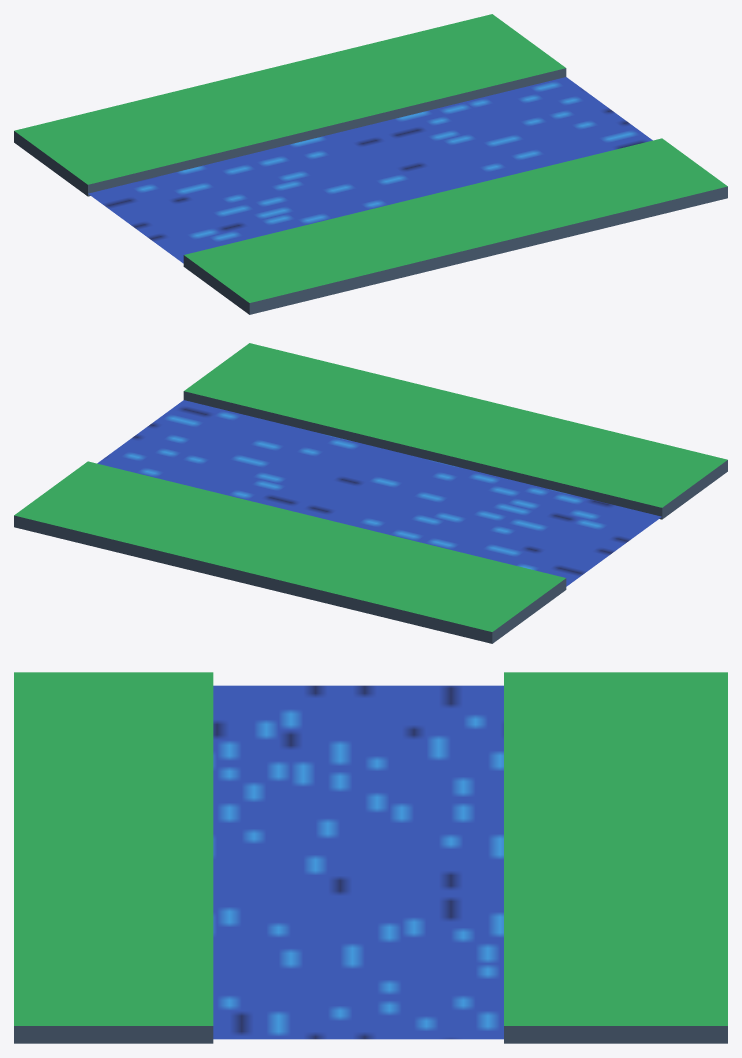
The model's file is pond.glb.
3 renders of one model, top to bottom at view 1: azimuth 30°, elevation 25°; view 2: azimuth 150°, elevation 25°; view 3: azimuth 270°, elevation 25°, orthographic. The views are drawn at different scales.
Visible parts, largest first — view 1: Water, FarBank, NearBank; view 2: FarBank, Water, NearBank; view 3: Water, FarBank, NearBank.
Boxes of the visible parts, bbox=[...] form: Water: bbox=[88, 77, 652, 263]; FarBank: bbox=[14, 14, 566, 196]; NearBank: bbox=[183, 138, 727, 314]; FarBank: bbox=[14, 461, 566, 643]; Water: bbox=[97, 400, 661, 586]; NearBank: bbox=[183, 343, 727, 519]; Water: bbox=[213, 685, 503, 1039]; FarBank: bbox=[504, 672, 727, 1043]; NearBank: bbox=[14, 672, 213, 1043].
Bounding box in the file's own units: 17 × 0.4 × 14.5.
3 materials, 1 textured.
